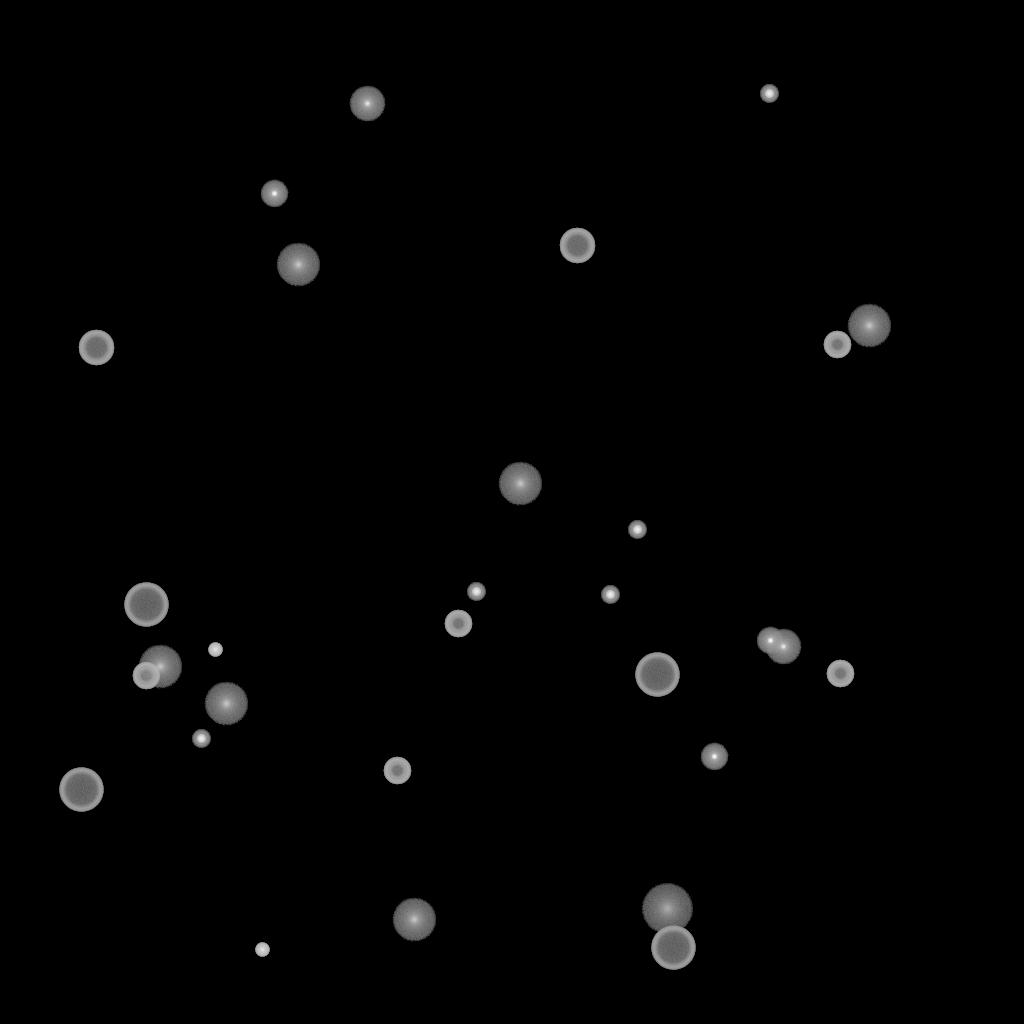depth:-10: (260, 180, 288, 208), (700, 743, 728, 771), (756, 627, 784, 655)
depth:-20: (628, 521, 646, 539), (760, 85, 778, 103), (467, 583, 485, 601), (192, 730, 210, 748), (601, 586, 619, 604)
depth:-30: (208, 643, 222, 657), (255, 943, 269, 957)
depth:-50: (444, 610, 472, 638), (823, 331, 851, 359), (826, 660, 854, 688), (132, 662, 160, 690), (383, 757, 411, 785)
depth:-60: (559, 228, 595, 264), (78, 330, 114, 366)
depth:-70: (635, 653, 679, 697), (651, 926, 695, 970), (124, 583, 168, 627), (59, 768, 103, 812)
depth:0: (765, 629, 801, 665), (349, 86, 385, 122)
depth:10: (276, 243, 320, 287), (498, 462, 542, 506), (392, 898, 436, 942), (204, 682, 248, 726), (847, 304, 891, 348), (138, 645, 182, 689)
depth:20: (641, 884, 693, 934)
